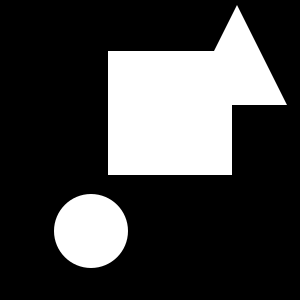circle: (108, 51, 232, 175)
rectangle: (54, 194, 128, 268)
triangle: (187, 5, 287, 105)
